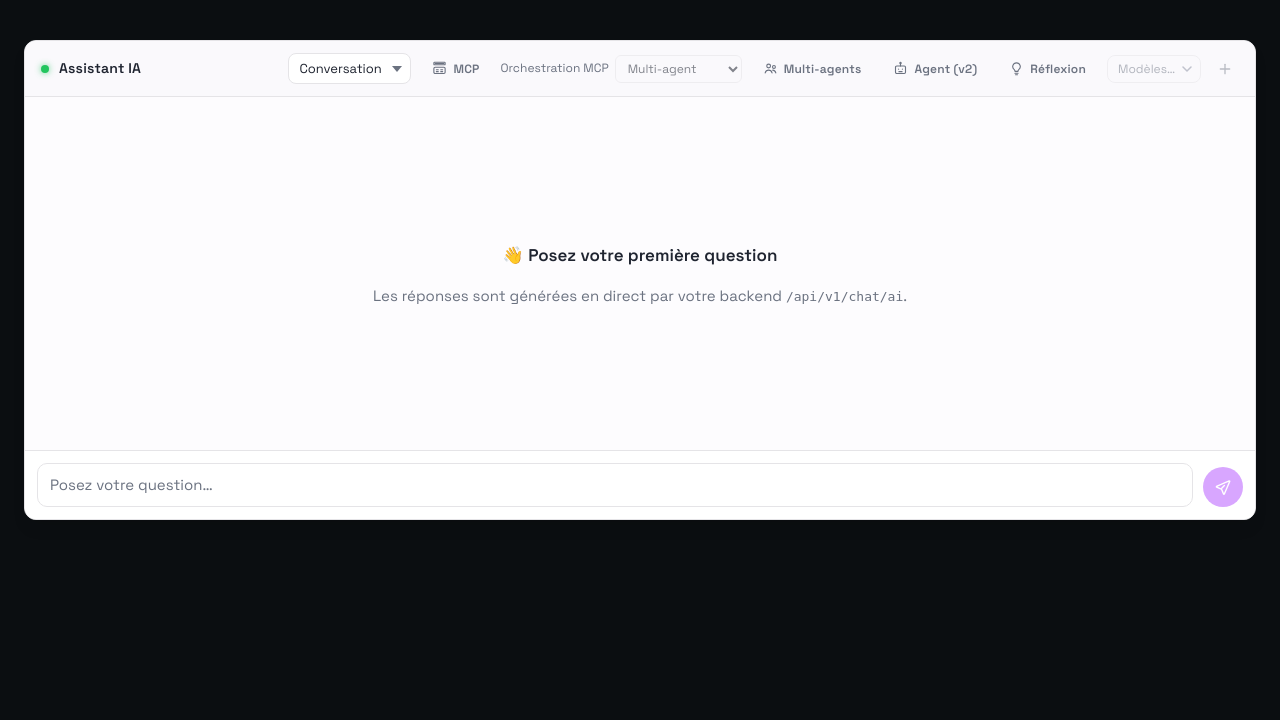
Test: ChatWindow - L3 (SCRUM-154) : badge, trace et repli HTTP › attache la trace enrichie au tour MCP (run_id visible + persistance)
Click the button "MCP".
click(456, 68)  # box [421,54,490,82]
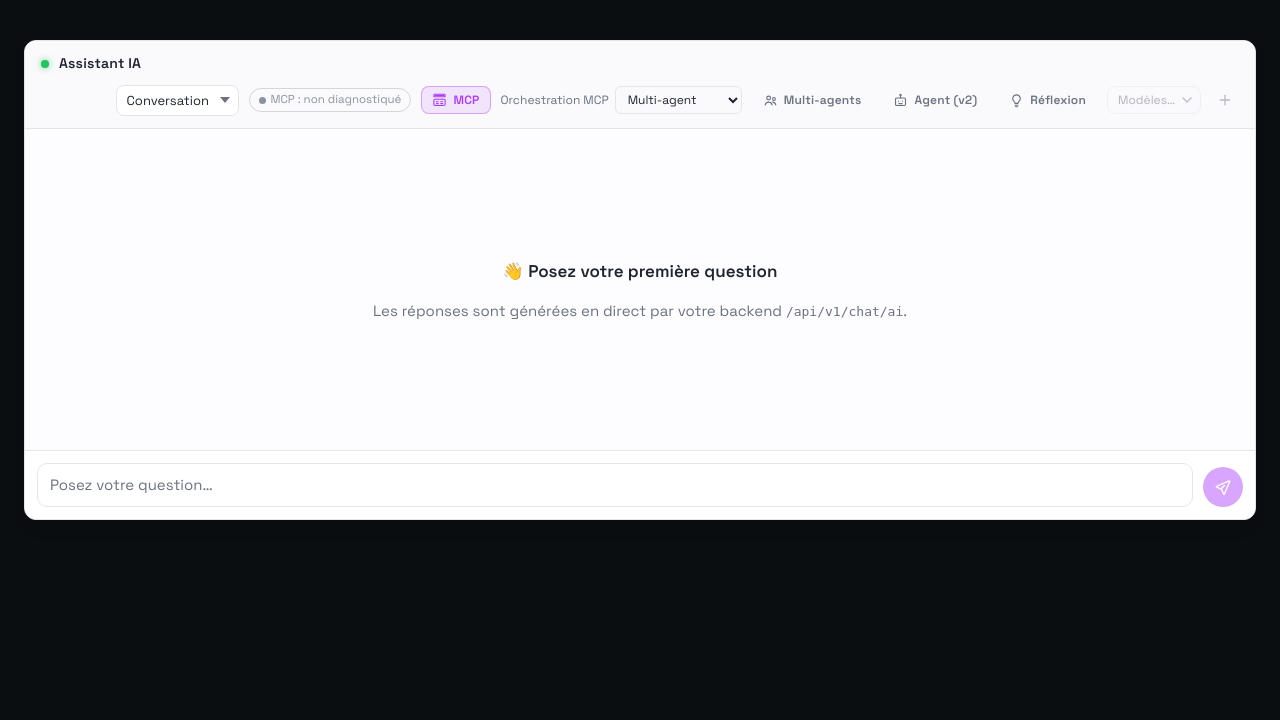
Type "Trace-moi ça" into the text box named "Votre message".
click(615, 485); type("Trace-moi ça")  # box [37,463,1193,507]
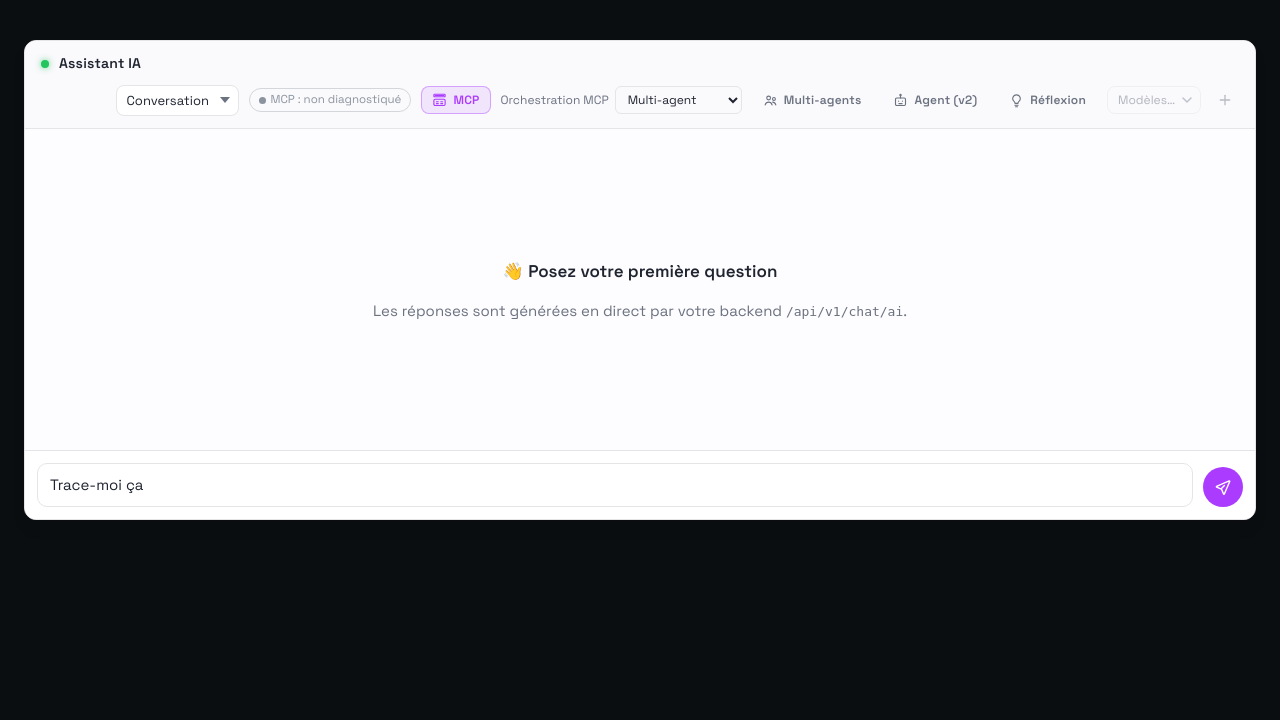
Click the button named "Envoyer".
click(1223, 487)  # box [1203,467,1243,507]
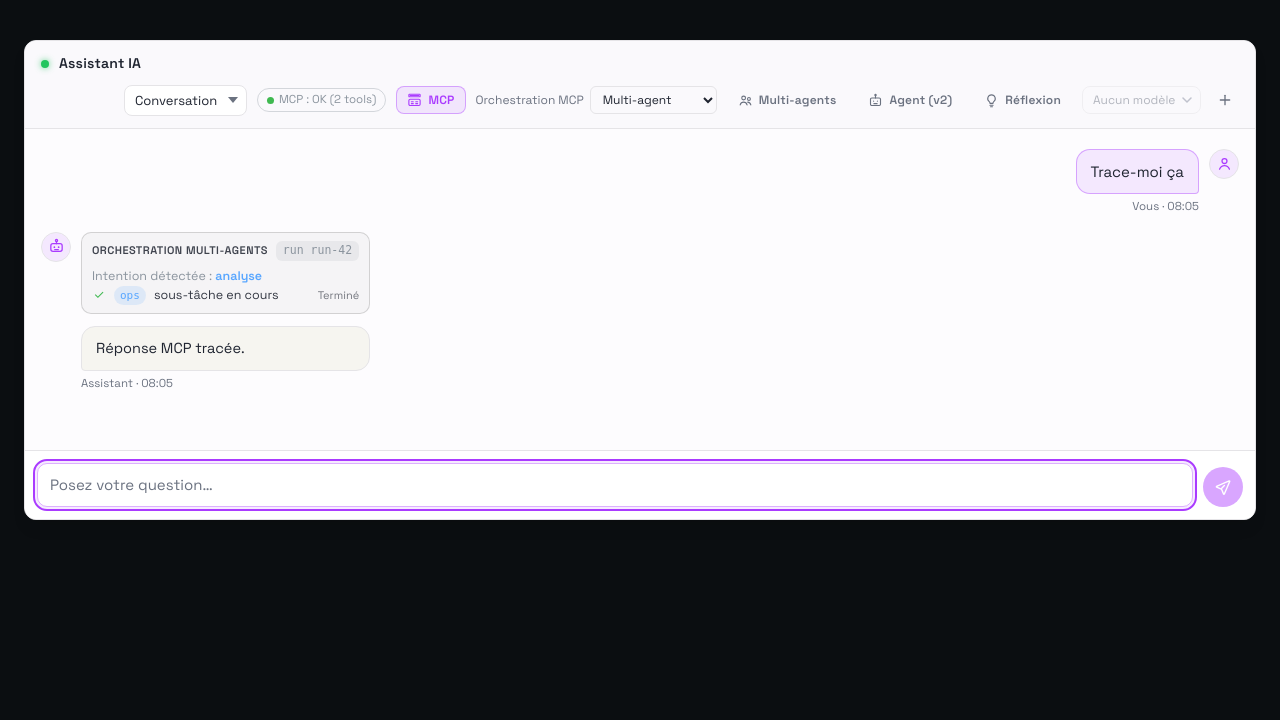
Check: the text "Réponse MCP tracée." is shown, box [96,339,245,357]
Check: the text "run run-42" is shown, box [276,241,359,261]
Check: the text "Intention détectée : analyse" is shown, box [92,268,262,284]
